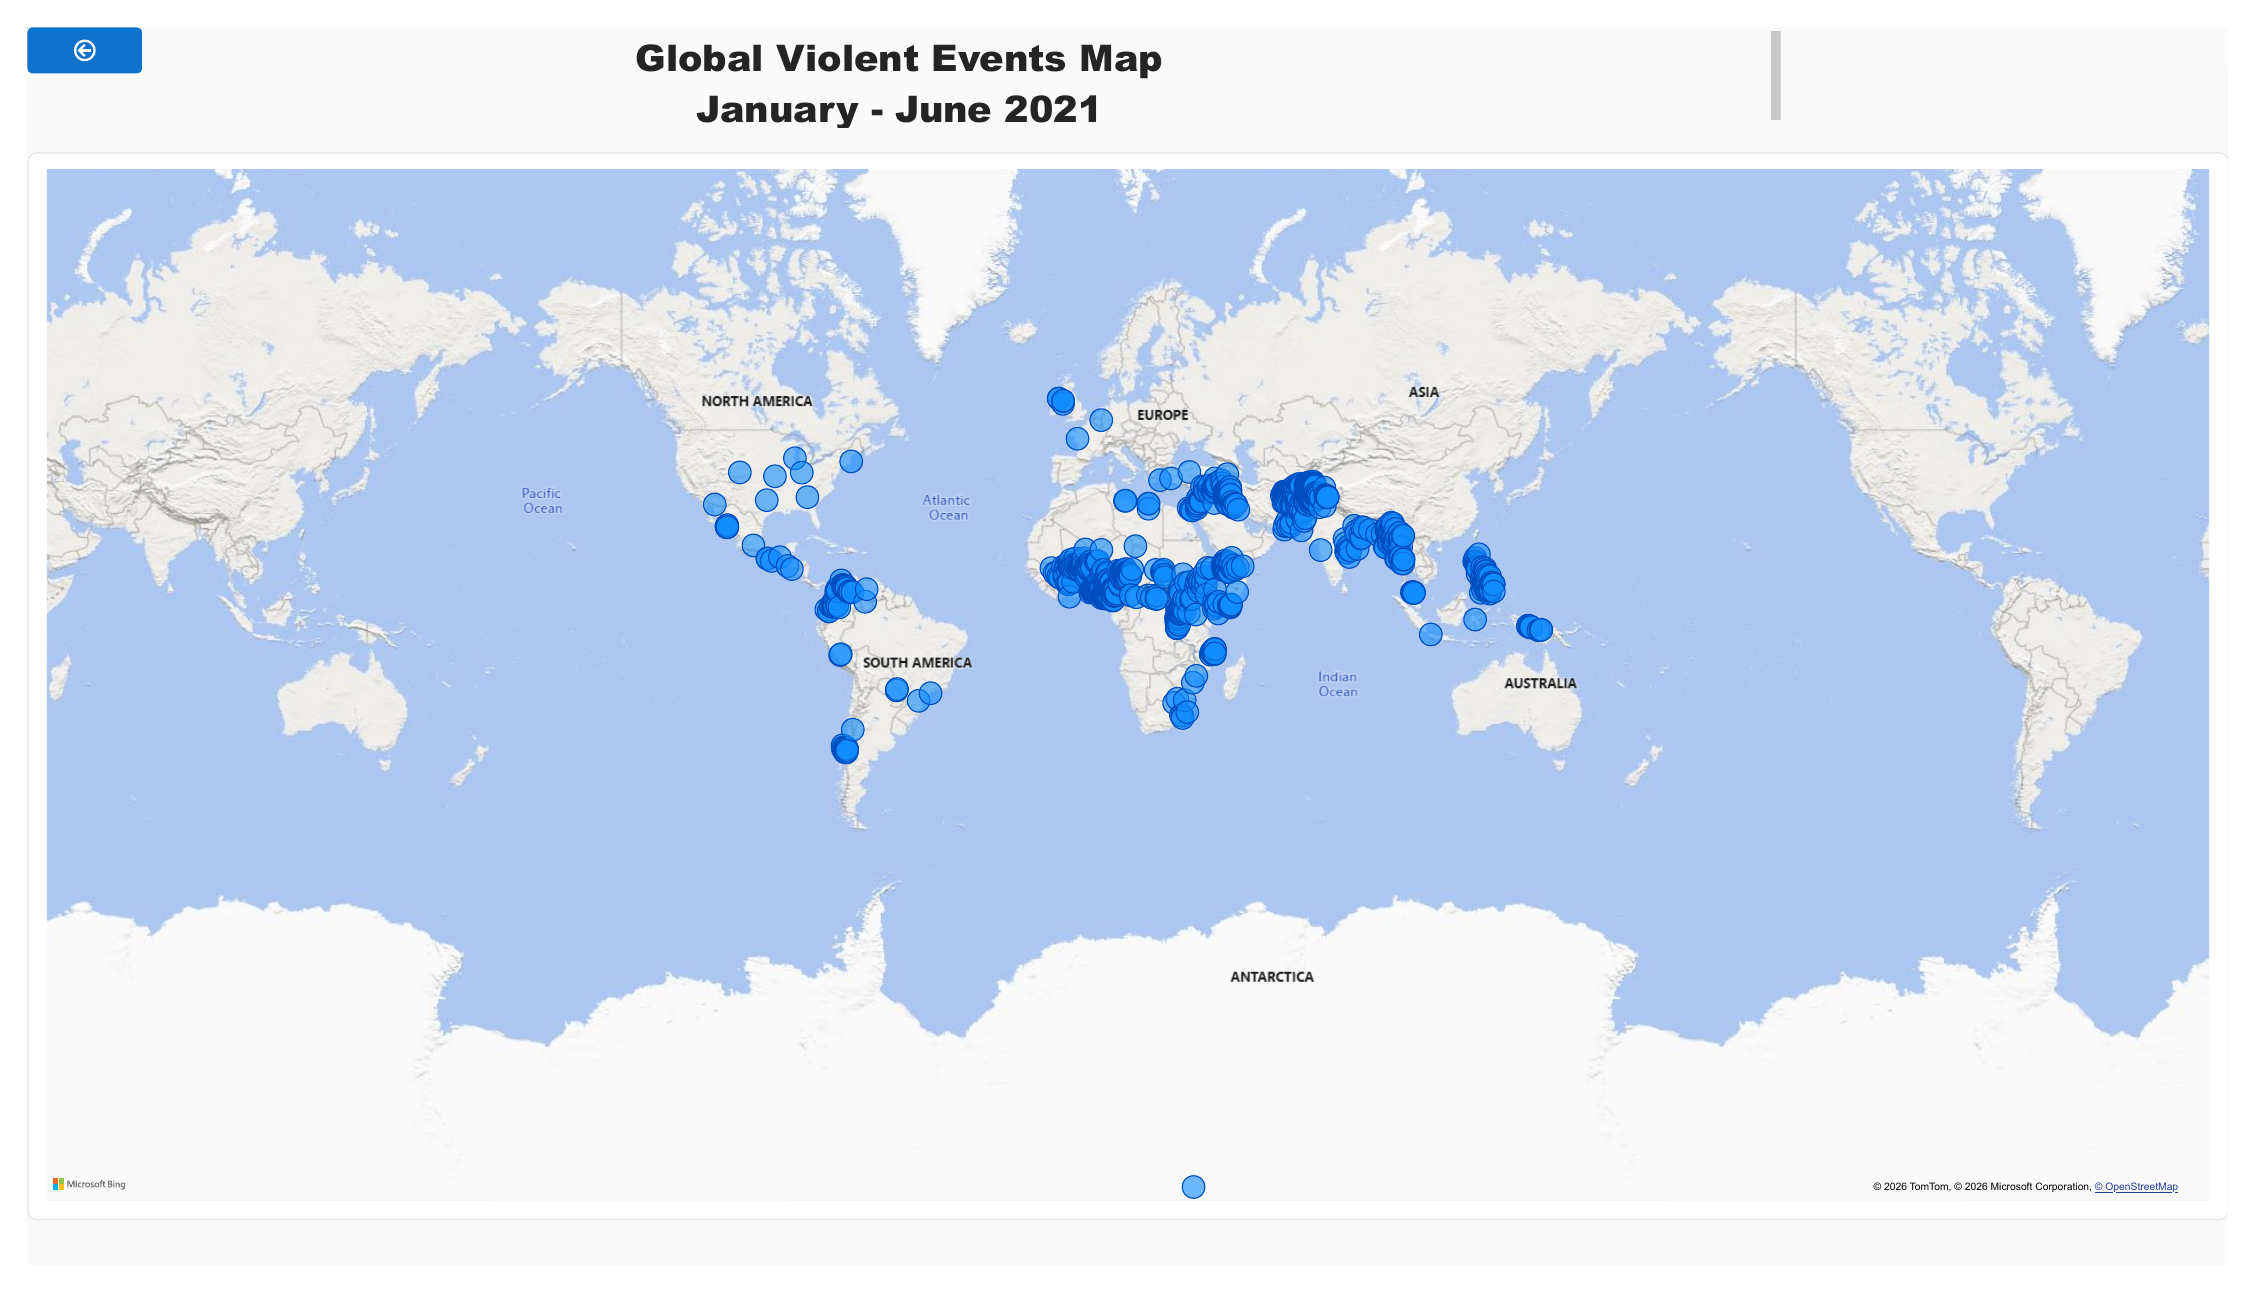

The dashboard page shown, as its layout file describes it:
{"tool":"powerbi","page":{"name":"Global Map","canvas":[1920,1080],"ordinal":0},"visuals":[{"type":"textbox","box":[0,2.9,1530,84.3],"z":0},{"type":"actionButton","box":[0,0,100,40],"z":1000},{"type":"map","fields":{"X":["STG_GTD_EVENTS.LONGITUDE"],"Y":["STG_GTD_EVENTS.LATITUDE"]},"box":[0,109.1,1920.6,932.4],"z":2000}]}

Visuals, with their boxes on the page's 1920x1080 design canvas (x1, y1, x2, y2). These are canvas units, not pixel positions in the 2255x1293 screenshot, which may show the page scaled, cropped or inside an application window:
textbox: left=0, top=3, right=1530, bottom=87
actionButton: left=0, top=0, right=100, bottom=40
map - STG_GTD_EVENTS.LONGITUDE x STG_GTD_EVENTS.LATITUDE: left=0, top=109, right=1921, bottom=1042
